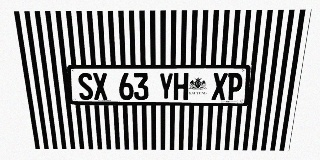3: (133, 73, 148, 100)
6: (118, 73, 134, 100)
H: (173, 73, 189, 100)
P: (226, 73, 243, 100)
S: (77, 73, 94, 100)
X: (211, 73, 228, 100), (92, 73, 108, 100)
Y: (159, 73, 173, 100)
